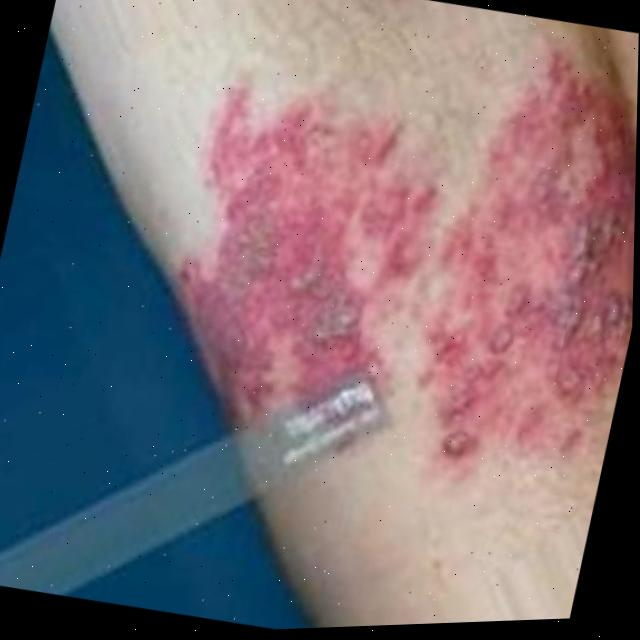Shingles: (137, 0, 640, 499)
